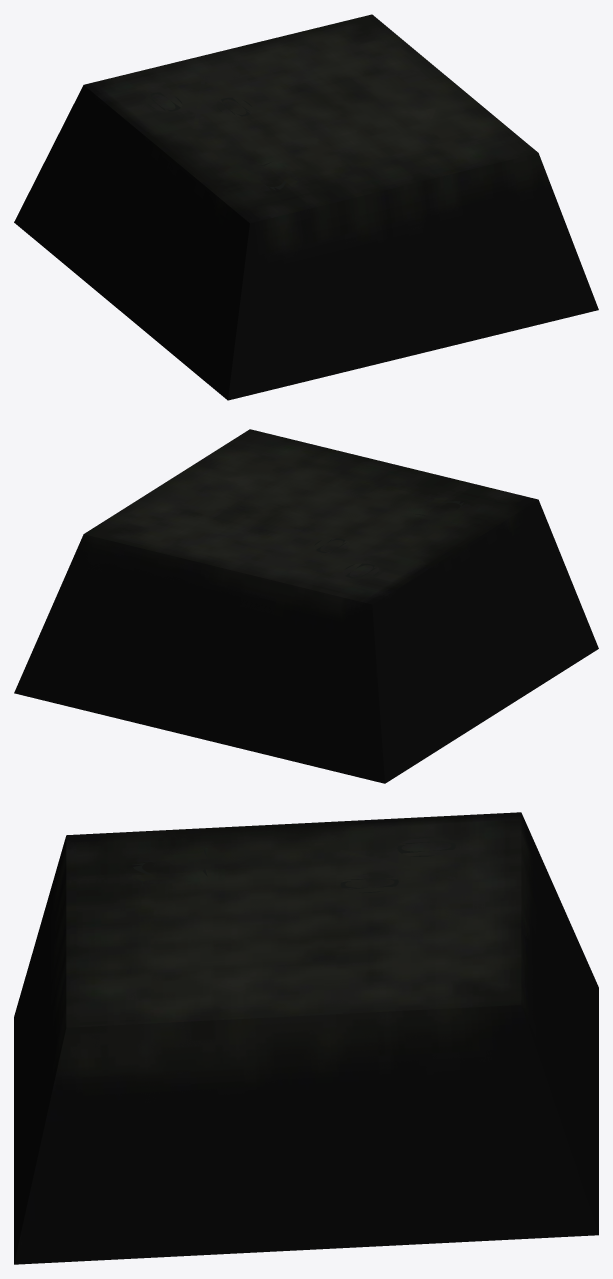
Rendered from link_15__key-21.glb.
3 renders of one model, top to bottom at view 1: azimuth 30°, elevation 25°; view 2: azimuth 150°, elevation 25°; view 3: azimuth 270°, elevation 25°, orthographic. The views are drawn at different scales.
Parts seen in each view (by area): view 1: geometry_0; view 2: geometry_0; view 3: geometry_0.
Part boxes in pixels (bbox=[...]): geometry_0: bbox=[14, 14, 598, 400]; geometry_0: bbox=[14, 429, 598, 783]; geometry_0: bbox=[14, 812, 598, 1264].
Bounding box in the file's own units: 0.0719 × 0.0315 × 0.0718.
1 material, 1 textured.
